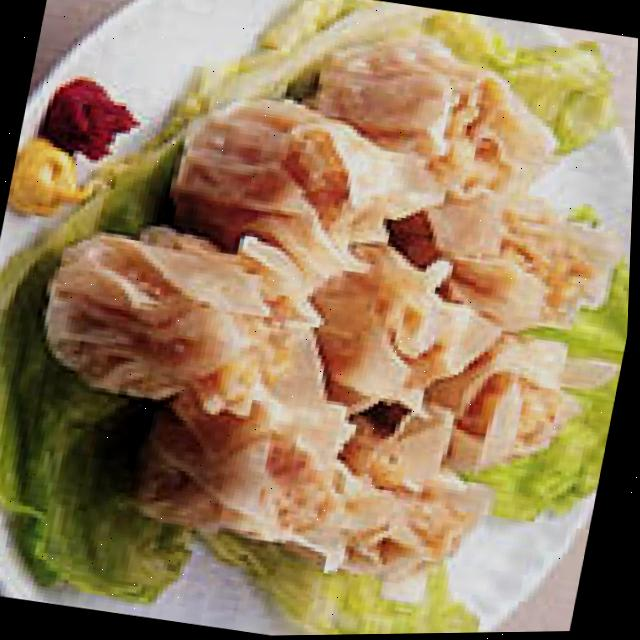带馅早点: (65, 0, 640, 595)
